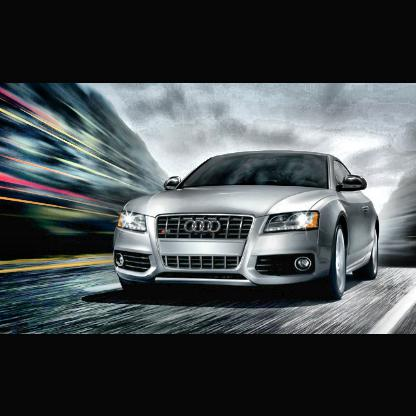Audi S5 Coupe 2012: (113, 153, 381, 302)
